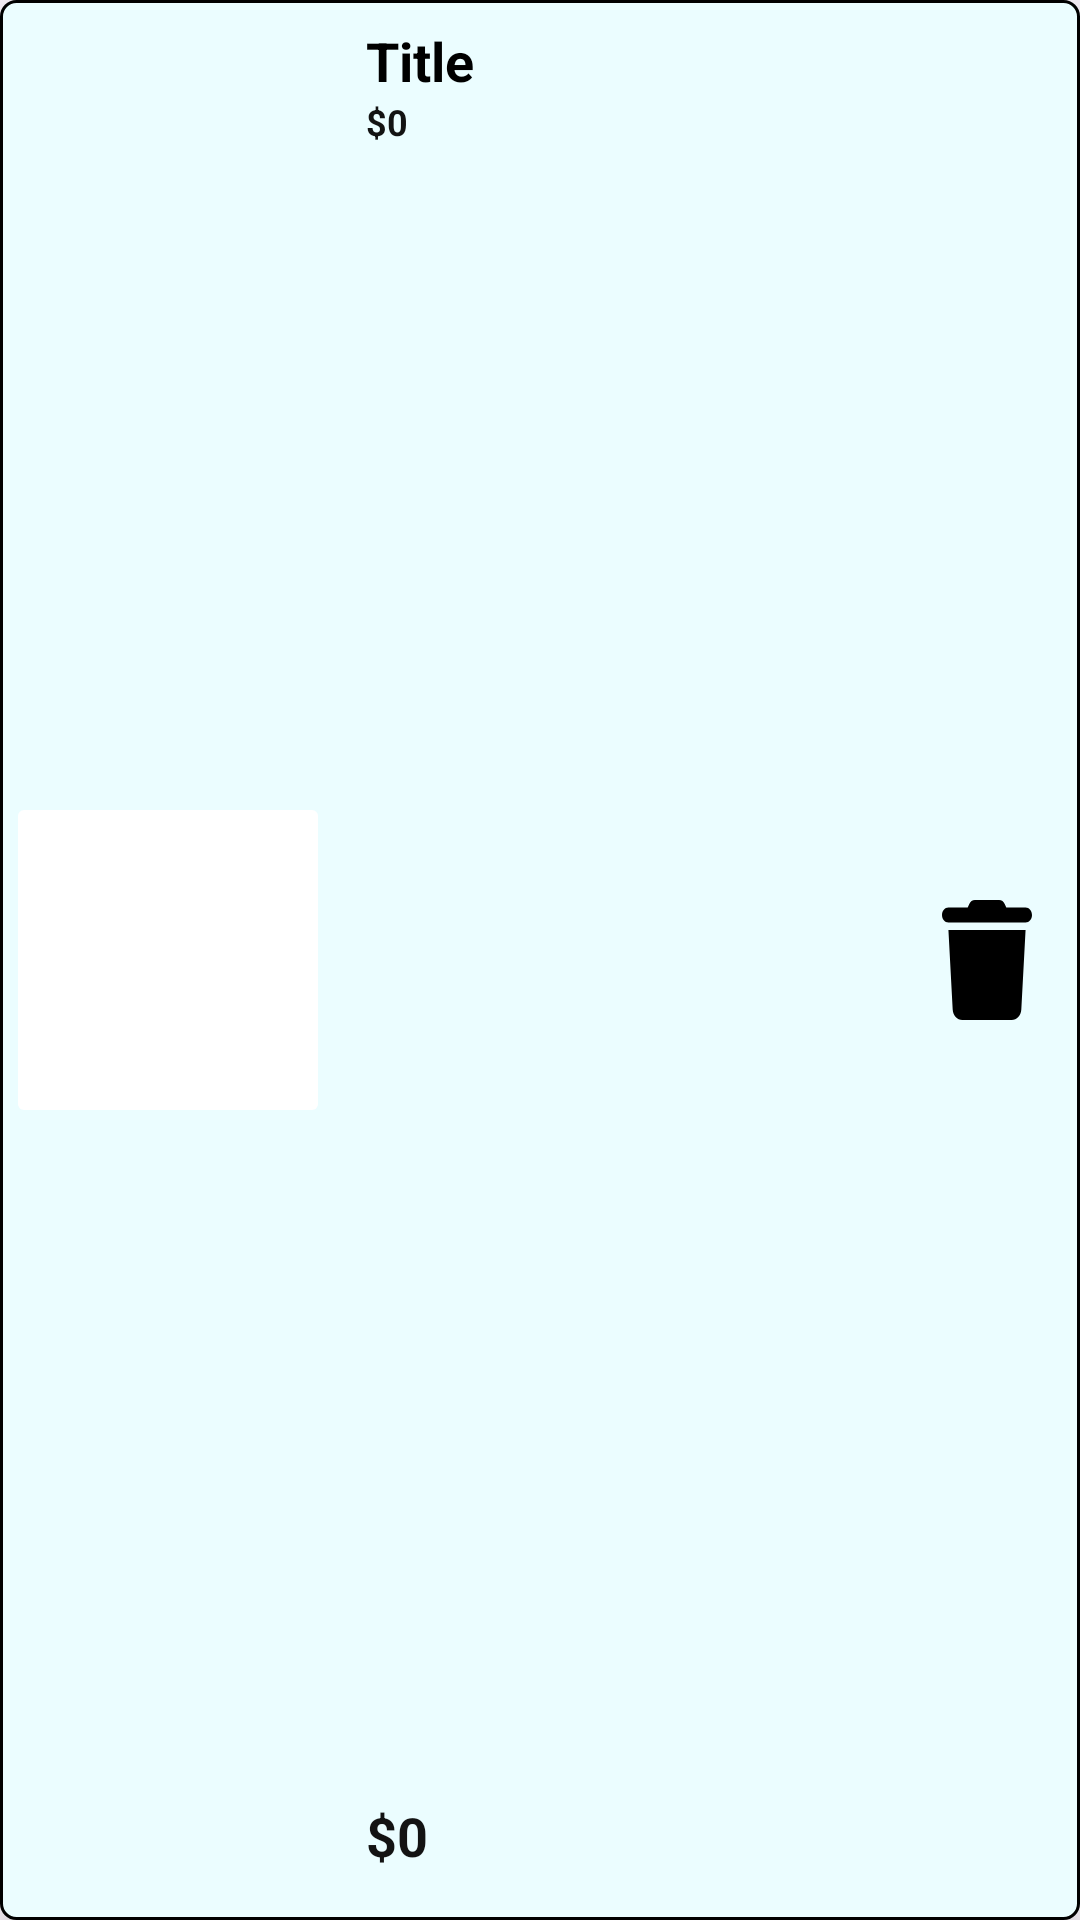

Where icons sit on this 1080px x 1920px app screen, as (x1, y1, x2, y2):
trash: (942, 900, 1032, 1020)
